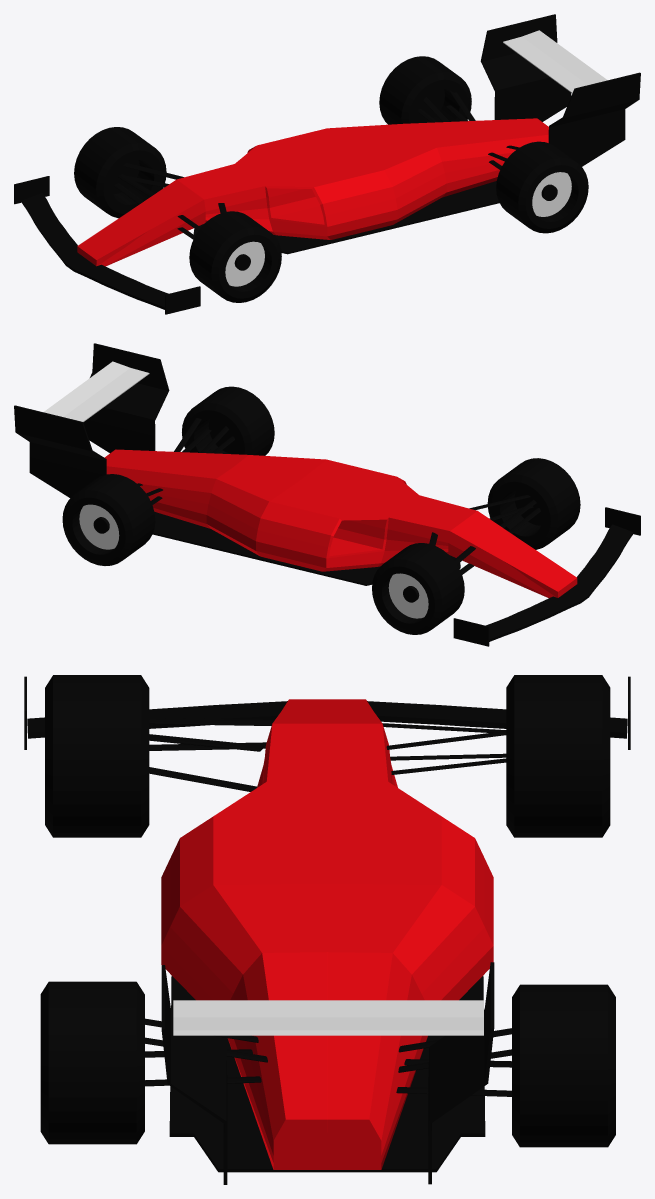
The model's file is carrozzeria.fbx.
The picture shows the model from 3 angles, top to bottom: view 1: azimuth 30°, elevation 25°; view 2: azimuth 150°, elevation 25°; view 3: azimuth 270°, elevation 25°; orthographic projection. The views are drawn at different scales.
Visible parts, largest first — view 1: Carrozzeria, BL, FL, Cube.006, FR, Cube.003, BR, Cube, fondo, Cube.005, Cube.001, Cube.002; view 2: Carrozzeria, BR, FR, FL, Cube.003, Cube.006, BL, Cube, fondo, Cube.005, Cube.002, Cube.001; view 3: Carrozzeria, BL, FR, FL, BR, fondo, Cube.005, Cube, Cube.003, Cube.006, Cylinder, Cylinder.001 (+1 smaller).
Boxes of the visible parts, x1,y1,x2,y2 form: Carrozzeria: [77, 118, 548, 266]; BL: [496, 141, 588, 233]; FL: [189, 211, 281, 302]; Cube.006: [480, 14, 571, 121]; FR: [74, 127, 166, 218]; Cube.003: [548, 72, 640, 166]; BR: [379, 56, 471, 124]; Cube: [22, 193, 168, 309]; fondo: [193, 181, 499, 254]; Cube.005: [503, 30, 607, 93]; Cube.001: [165, 286, 200, 314]; Cube.002: [14, 176, 49, 204]; Carrozzeria: [104, 449, 577, 597]; BR: [62, 474, 155, 565]; FR: [372, 543, 464, 634]; FL: [487, 458, 580, 549]; Cube.003: [83, 343, 169, 453]; Cube.006: [14, 405, 106, 498]; BL: [182, 386, 274, 455]; Cube: [486, 524, 633, 641]; fondo: [152, 512, 460, 585]; Cube.005: [43, 361, 149, 421]; Cube.002: [453, 618, 489, 646]; Cube.001: [605, 507, 640, 535]; Carrozzeria: [161, 699, 493, 1169]; BL: [40, 981, 144, 1144]; FR: [506, 675, 610, 837]; FL: [45, 675, 149, 837]; BR: [512, 984, 615, 1147]; fondo: [169, 976, 485, 1172]; Cube.005: [173, 1000, 483, 1035]; Cube: [27, 701, 627, 738]; Cube.003: [161, 965, 227, 1184]; Cube.006: [428, 962, 494, 1184]; Cylinder: [149, 718, 274, 725]; Cylinder.001: [149, 734, 263, 751].
Bounding box in the file's own units: 2269 × 456 × 1124.
